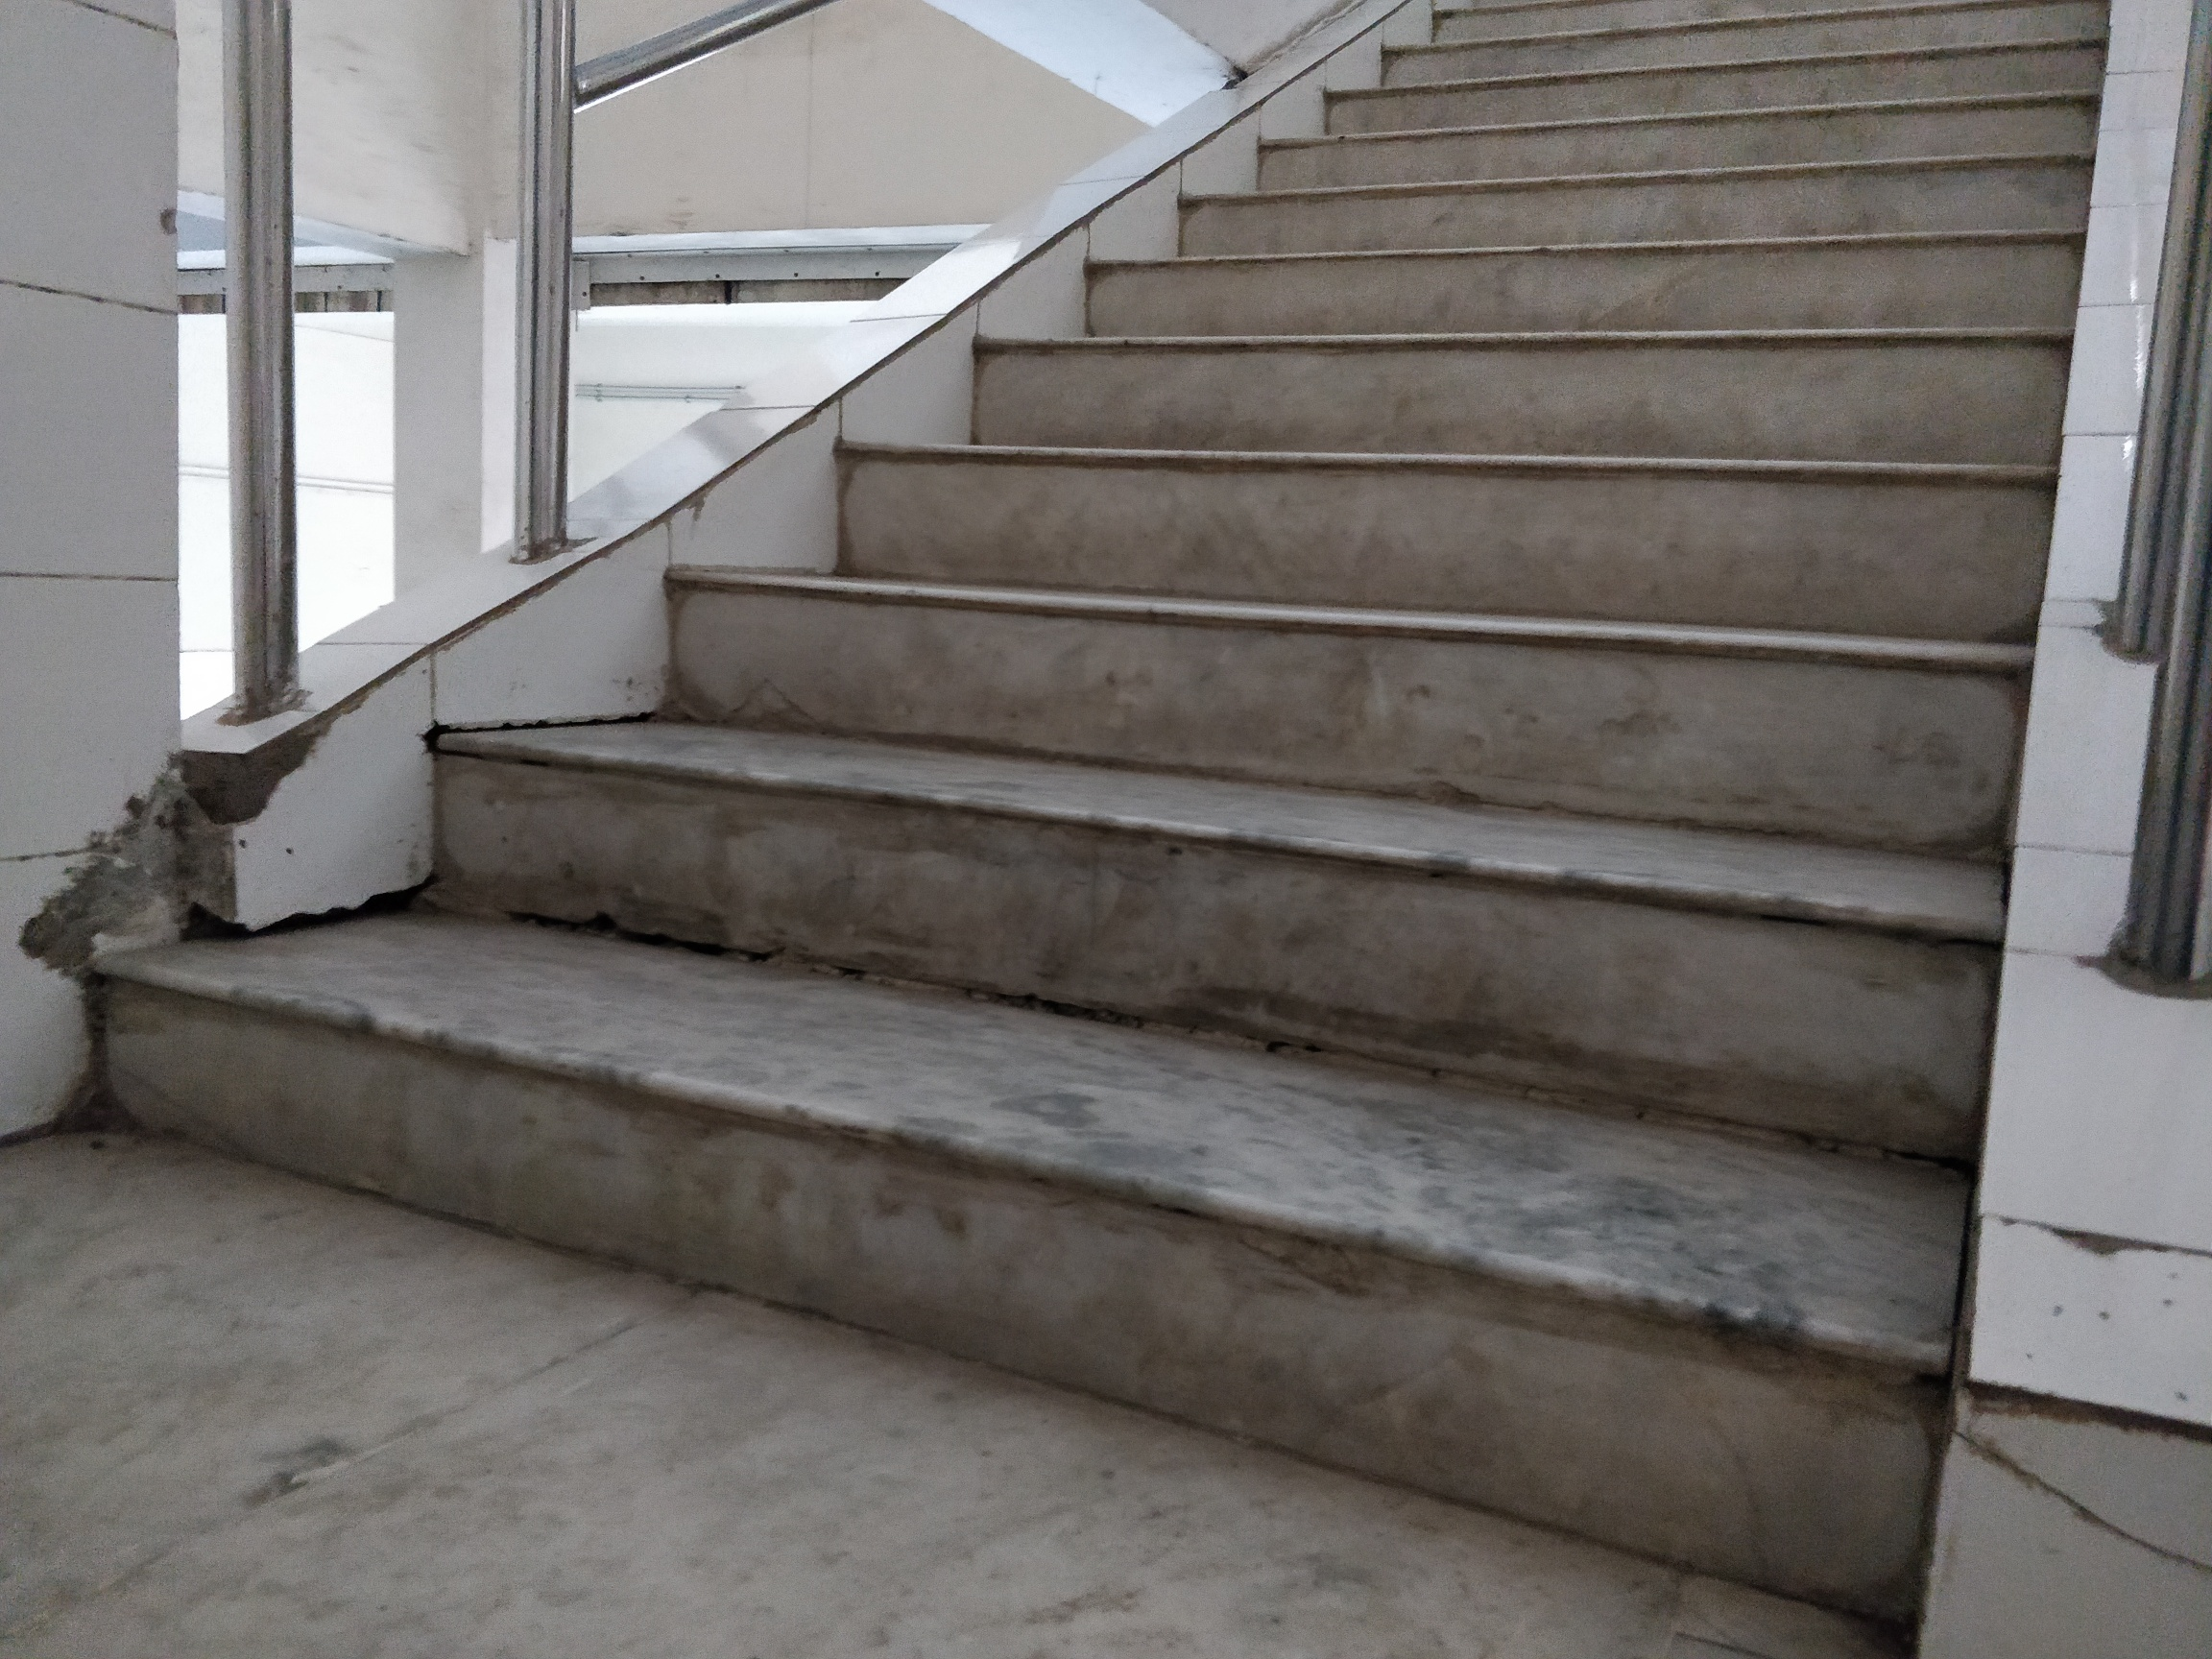stairs_up: (164, 49, 2092, 1537)
